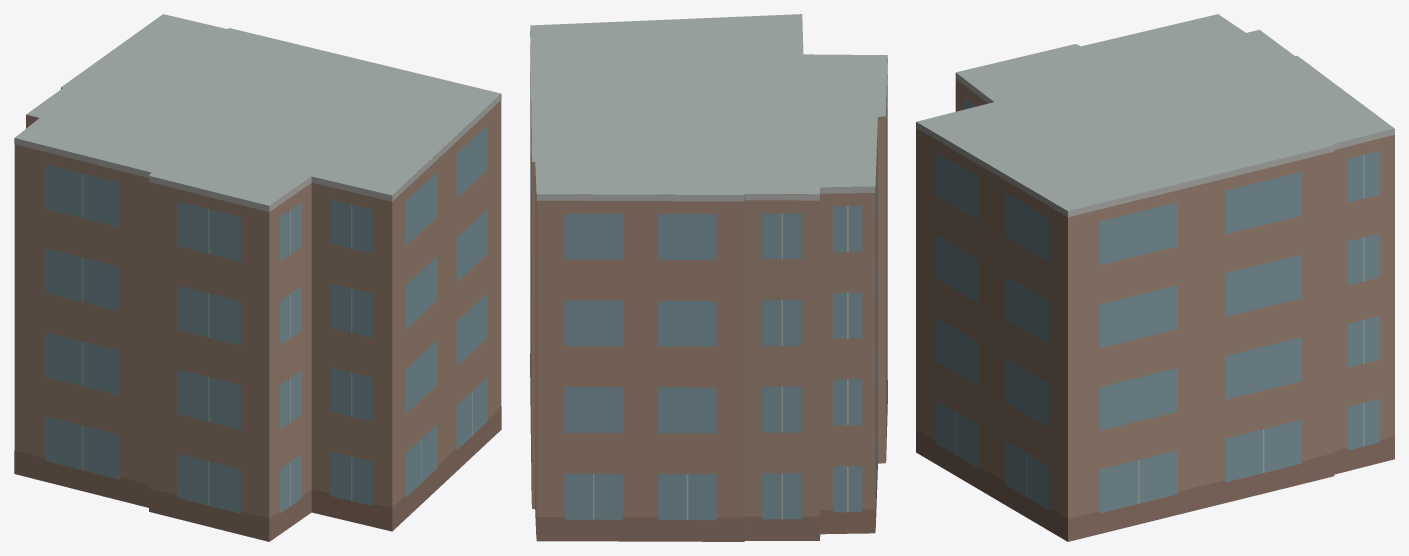
File: survey-upis-32831305.glb
3 views of the same model, side by side, from view 1: azimuth 30°, elevation 25°; view 2: azimuth 150°, elevation 25°; view 3: azimuth 270°, elevation 25° (orthographic). The views are drawn at different scales.
Visible parts, largest first — view 1: survey-upis-32831305.tmp; view 2: survey-upis-32831305.tmp; view 3: survey-upis-32831305.tmp.
Boxes of the visible parts, <box> form: survey-upis-32831305.tmp: <box>14,14,501,541</box>; survey-upis-32831305.tmp: <box>530,14,887,541</box>; survey-upis-32831305.tmp: <box>916,14,1394,541</box>.
Bounding box in the file's own units: 16.96 × 13.25 × 17.4.
